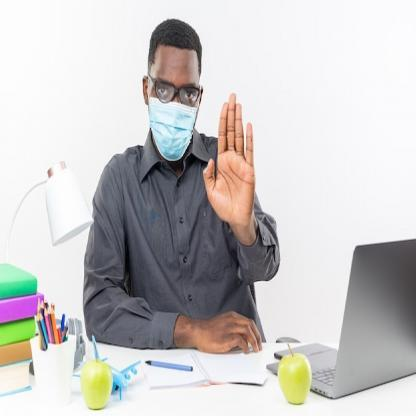stop: (200, 87, 258, 230)
